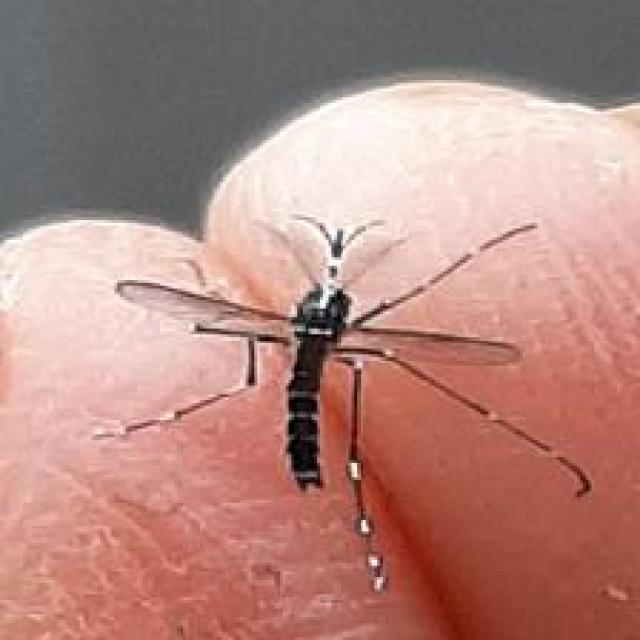Aedes albopictus: (93, 210, 593, 593)
